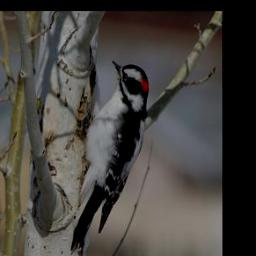Woodpecker: (69, 58, 148, 256)
